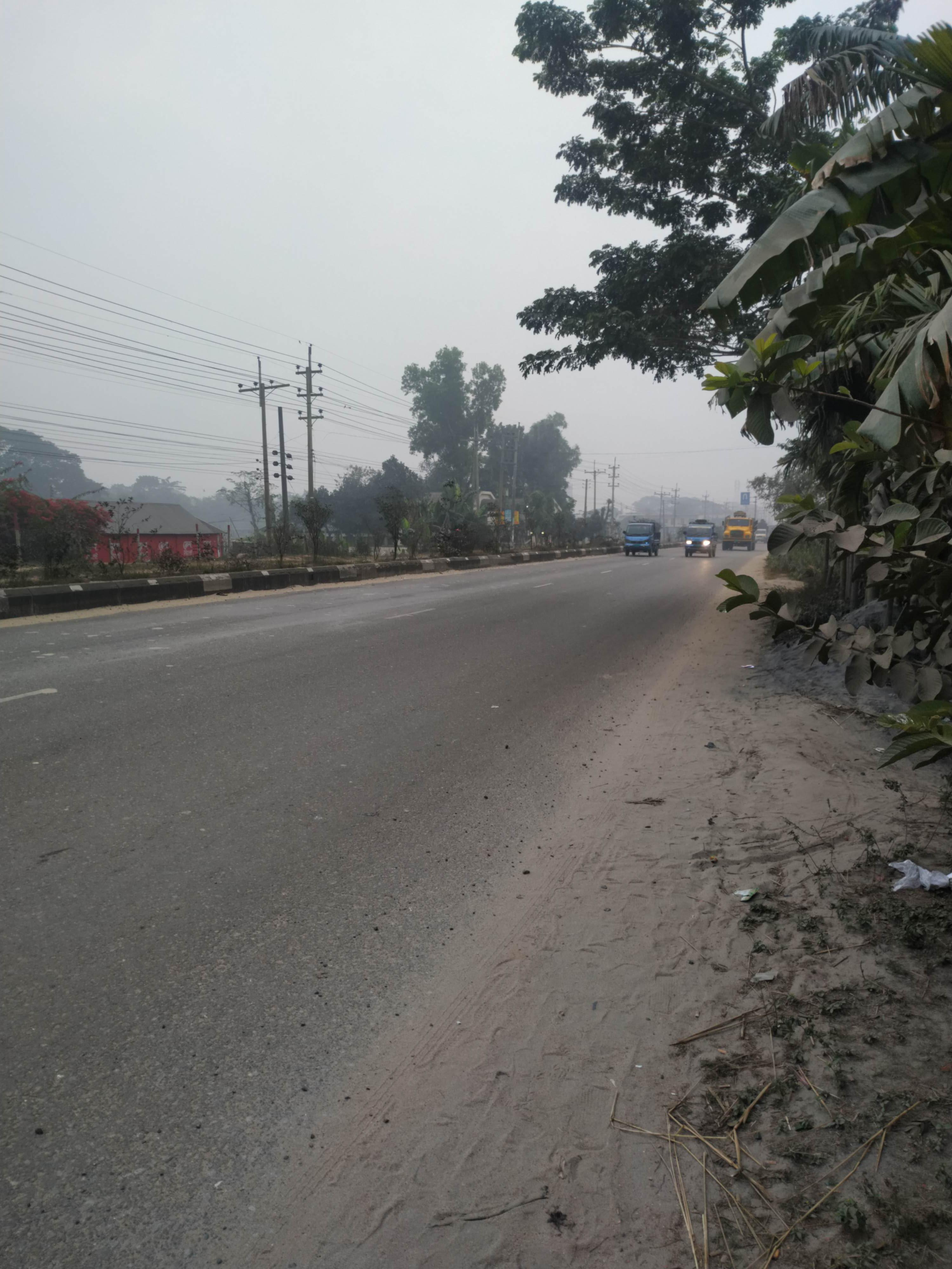Truck: (677, 511, 723, 575), (619, 510, 668, 567), (723, 506, 768, 559)
